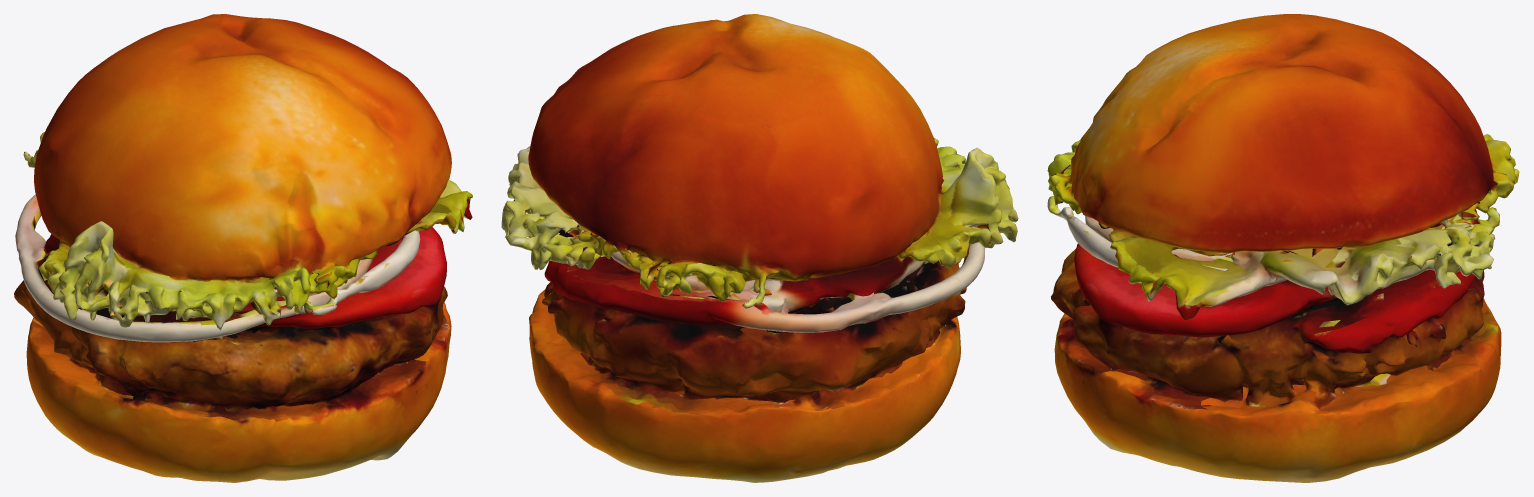
Rendered from burger.glb.
The picture shows the model from 3 angles, left to right: view 1: azimuth 30°, elevation 25°; view 2: azimuth 150°, elevation 25°; view 3: azimuth 270°, elevation 25°; orthographic projection. The views are drawn at different scales.
Visible parts, largest first — view 1: burger; view 2: burger; view 3: burger.
Part boxes in pixels (<box>): burger: <box>14,14,472,482</box>; burger: <box>501,14,1018,482</box>; burger: <box>1047,14,1519,482</box>.
Bounding box in the file's own units: 0.1326 × 0.1107 × 0.1257.
Materials: 2 (2 with a texture image).
